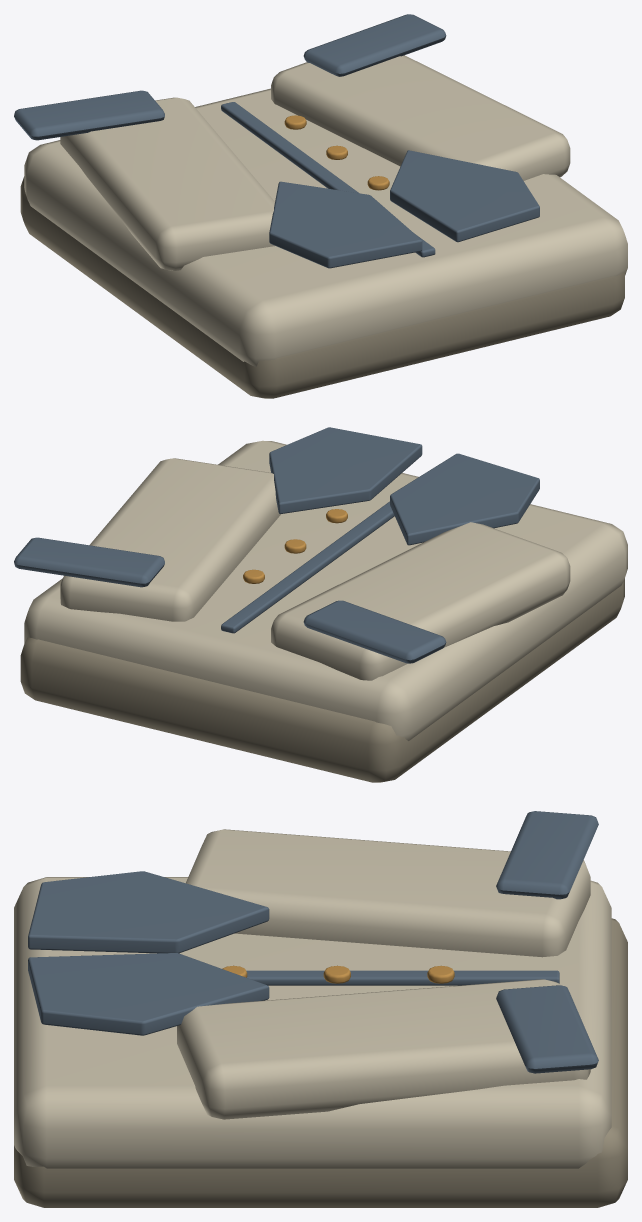
The model's file is cotton_coat.glb.
The picture shows the model from 3 angles, top to bottom: view 1: azimuth 30°, elevation 25°; view 2: azimuth 150°, elevation 25°; view 3: azimuth 270°, elevation 25°; orthographic projection. The views are drawn at different scales.
Parts seen in each view (by area): view 1: folded coat body, folded coat lower layer, folded left sleeve, folded right sleeve, left slate lapel, right slate lapel, left cuff, right cuff, front opening; view 2: folded coat body, folded coat lower layer, folded left sleeve, folded right sleeve, right slate lapel, left slate lapel, right cuff, left cuff, front opening; view 3: folded coat body, folded right sleeve, folded left sleeve, folded coat lower layer, left slate lapel, right slate lapel, right cuff, left cuff, front opening.
Part boxes in pixels (<box>): folded coat body: <box>24,88,627,366</box>; folded coat lower layer: <box>20,176,624,398</box>; folded left sleeve: <box>60,97,274,270</box>; folded right sleeve: <box>271,55,570,180</box>; left slate lapel: <box>269,181,422,268</box>; right slate lapel: <box>390,150,539,242</box>; left cuff: <box>14,90,164,140</box>; right cuff: <box>303,14,446,76</box>; front opening: <box>221,102,435,257</box>; folded coat body: <box>24,440,627,740</box>; folded coat lower layer: <box>20,578,624,782</box>; folded left sleeve: <box>271,522,570,680</box>; folded right sleeve: <box>60,458,280,621</box>; right slate lapel: <box>269,427,422,513</box>; left slate lapel: <box>390,453,539,545</box>; right cuff: <box>14,537,164,587</box>; left cuff: <box>303,600,446,663</box>; front opening: <box>221,501,394,633</box>; folded coat body: <box>14,877,611,1168</box>; folded right sleeve: <box>177,979,590,1119</box>; folded left sleeve: <box>186,829,590,957</box>; folded coat lower layer: <box>14,918,627,1207</box>; left slate lapel: <box>28,871,269,953</box>; right slate lapel: <box>28,953,269,1035</box>; right cuff: <box>496,985,598,1073</box>; left cuff: <box>496,811,598,899</box>; front opening: <box>246,970,559,985</box>.
Size of the model in its own units: 0.4394 by 0.1375 by 0.45.
